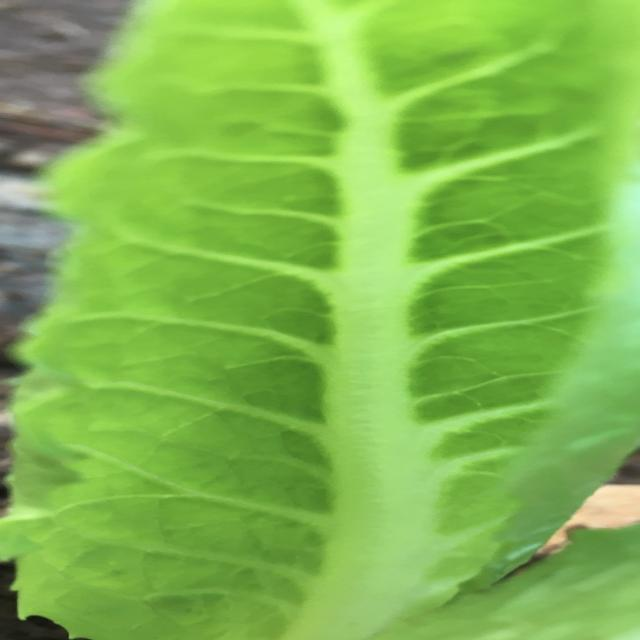Healthy Lettuce: (13, 2, 632, 635)
